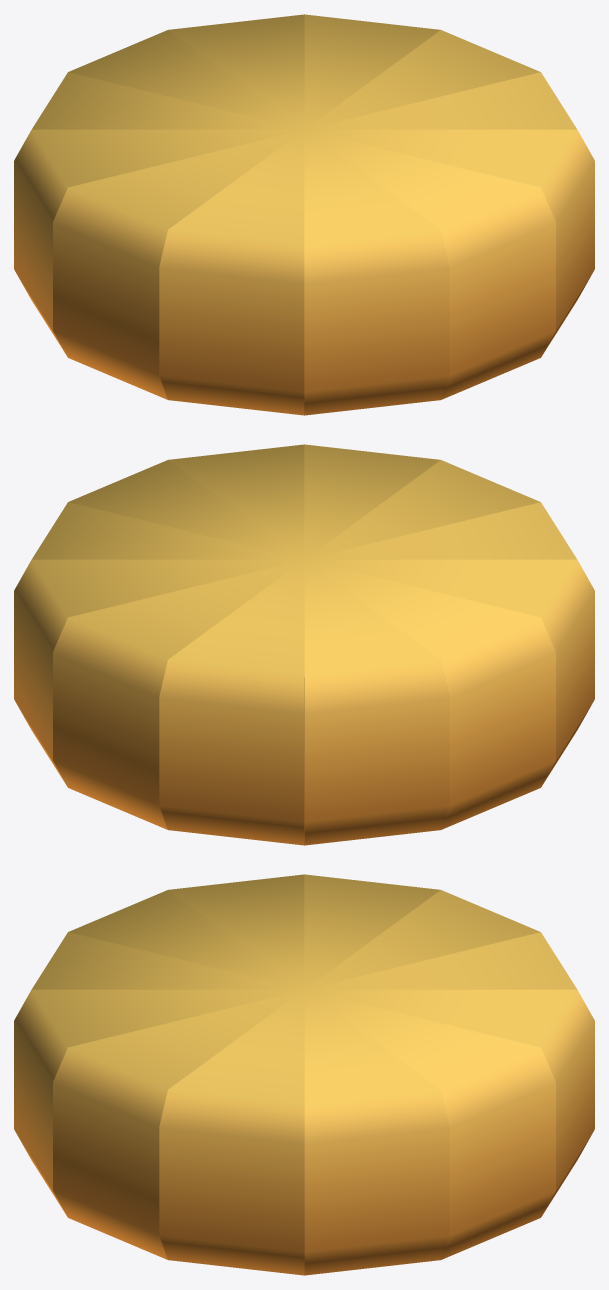
Rendered from cheese.glb.
3 renders of one model, top to bottom at view 1: azimuth 30°, elevation 25°; view 2: azimuth 150°, elevation 25°; view 3: azimuth 270°, elevation 25°, orthographic.
Visible parts, largest first — view 1: wedge; view 2: wedge; view 3: wedge.
Boxes of the visible parts, bbox=[...] form: wedge: bbox=[14, 14, 594, 415]; wedge: bbox=[14, 444, 594, 845]; wedge: bbox=[14, 874, 594, 1275].
Size of the model in its own units: 0.68 by 0.22 by 0.68.
Materials: 1 (1 with a texture image).
